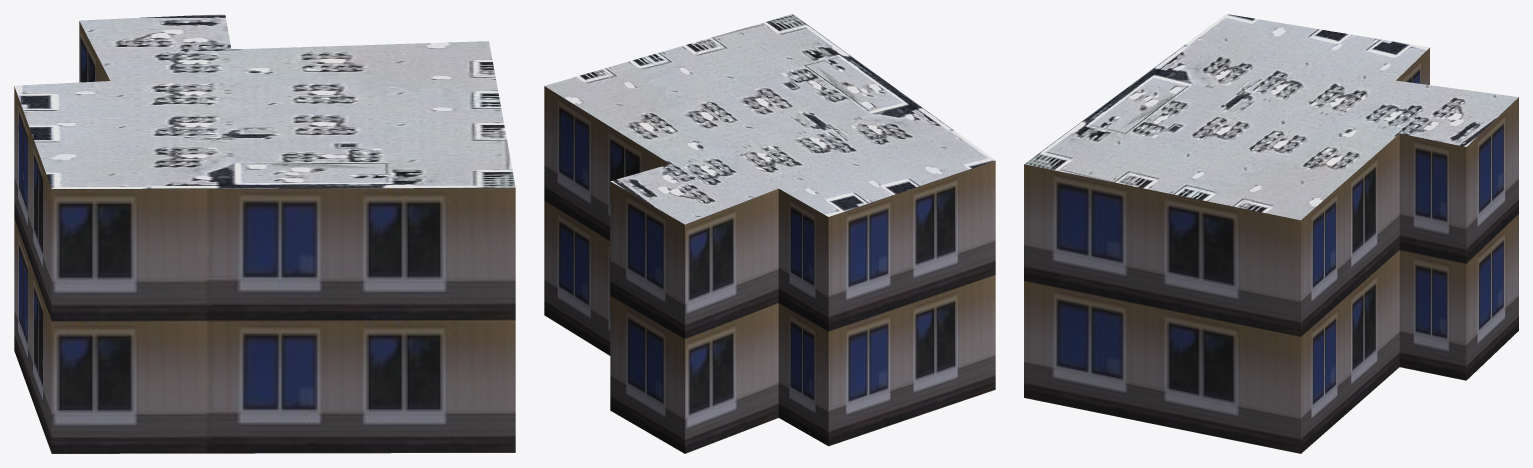
File: ResTex__906.fbx
3 views of the same model, side by side, from view 1: azimuth 30°, elevation 25°; view 2: azimuth 150°, elevation 25°; view 3: azimuth 270°, elevation 25° (orthographic). The views are drawn at different scales.
Visible parts, largest first — view 1: CityEngineMaterial_5_m, CityEngineMaterial_8_m; view 2: CityEngineMaterial_5_m, CityEngineMaterial_8_m; view 3: CityEngineMaterial_5_m, CityEngineMaterial_8_m.
Part boxes in pixels (<box>): CityEngineMaterial_5_m: <box>14,21,515,453</box>; CityEngineMaterial_8_m: <box>14,14,515,188</box>; CityEngineMaterial_5_m: <box>544,86,995,453</box>; CityEngineMaterial_8_m: <box>545,14,995,224</box>; CityEngineMaterial_5_m: <box>1024,48,1518,453</box>; CityEngineMaterial_8_m: <box>1024,14,1518,220</box>.
Bounding box in the file's own units: 11.36 × 6 × 11.52.
2 materials, 2 textured.
